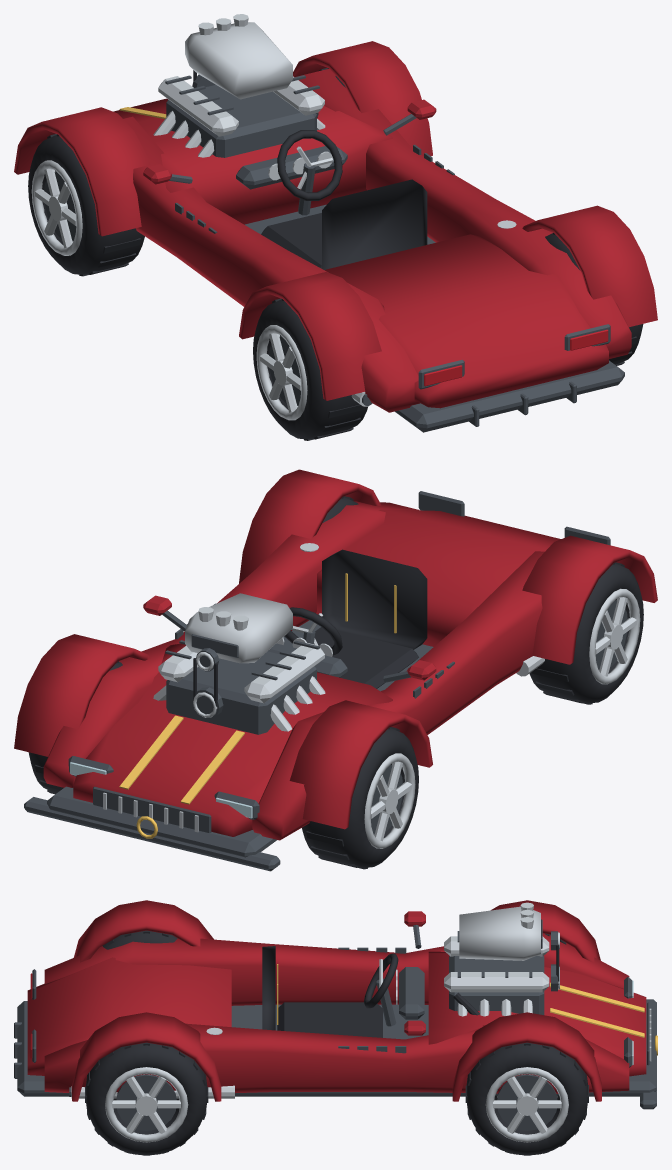
File: thunder.fbx
3 views of the same model, one above another, from view 1: azimuth 30°, elevation 25°; view 2: azimuth 150°, elevation 25°; view 3: azimuth 270°, elevation 25° (orthographic). The views are drawn at different scales.
Visible parts, largest first — view 1: PaintBody, DarkDetails, Interior, WheelFL, WheelRL, EngineIntake, MetalDetails, TailLampLenses, WheelRR; view 2: PaintBody, DarkDetails, Interior, WheelFL, WheelRL, MetalDetails, EngineIntake, AccentTrim, HeadlampLenses, WheelFR; view 3: PaintBody, DarkDetails, WheelFR, WheelRR, Interior, MetalDetails, EngineIntake, AccentTrim, WheelRL.
Part boxes in pixels (left/top/right/bottom): PaintBody: left=14, top=41, right=657, bottom=412; DarkDetails: left=165, top=74, right=624, bottom=432; Interior: left=193, top=70, right=427, bottom=270; WheelFL: left=28, top=134, right=144, bottom=276; WheelRL: left=253, top=298, right=368, bottom=440; EngineIntake: left=185, top=22, right=292, bottom=99; MetalDetails: left=153, top=76, right=516, bottom=406; TailLampLenses: left=424, top=329, right=608, bottom=386; WheelRR: left=545, top=233, right=643, bottom=365; PaintBody: left=14, top=469, right=657, bottom=840; DarkDetails: left=24, top=491, right=610, bottom=871; Interior: left=193, top=549, right=427, bottom=710; WheelFL: left=302, top=727, right=418, bottom=869; WheelRL: left=529, top=562, right=643, bottom=704; MetalDetails: left=103, top=543, right=544, bottom=832; EngineIntake: left=185, top=593, right=292, bottom=663; AccentTrim: left=119, top=573, right=396, bottom=838; HeadlampLenses: left=70, top=762, right=252, bottom=818; WheelFR: left=28, top=661, right=122, bottom=794; PaintBody: left=27, top=900, right=646, bottom=1101; DarkDetails: left=14, top=919, right=656, bottom=1109; WheelFR: left=465, top=1042, right=588, bottom=1155; WheelRR: left=85, top=1042, right=208, bottom=1155; Interior: left=262, top=944, right=559, bottom=1037; MetalDetails: left=71, top=932, right=651, bottom=1098; EngineIntake: left=459, top=906, right=540, bottom=960; AccentTrim: left=277, top=964, right=657, bottom=1055; WheelRL: left=102, top=930, right=177, bottom=949.
Size of the model in its own units: 485 by 292 by 947.
